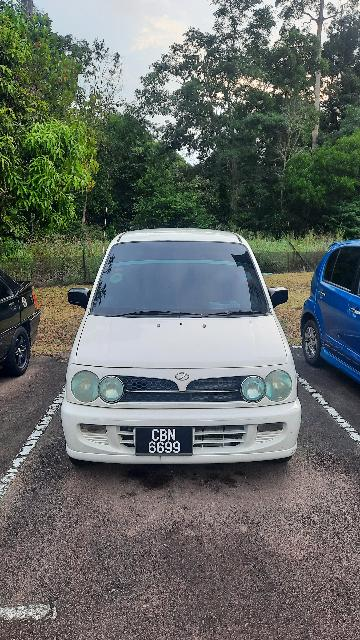License_Plate: (130, 424, 198, 463)
car: (56, 225, 308, 475)
